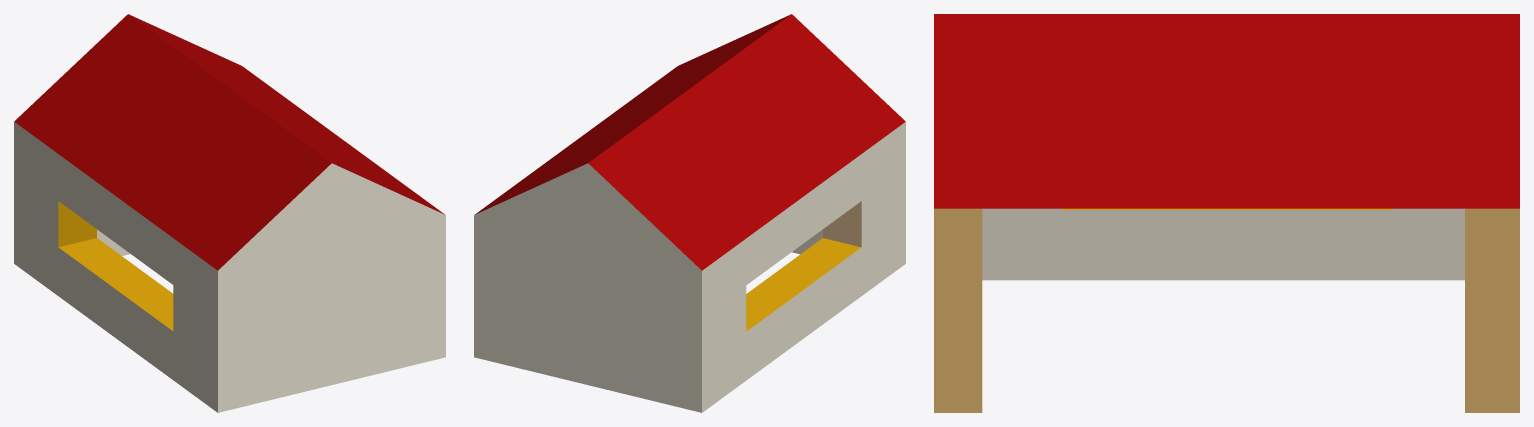
File: asset_home.glb
3 renders of one model, left to right at view 1: azimuth 30°, elevation 25°; view 2: azimuth 150°, elevation 25°; view 3: azimuth 270°, elevation 25°, orthographic. The views are drawn at different scales.
Parts seen in each view (by area): view 1: imagetostl_mesh8, imagetostl_mesh2, imagetostl_mesh1, imagetostl_mesh4, imagetostl_mesh7, imagetostl_mesh18, imagetostl_mesh17; view 2: imagetostl_mesh8, imagetostl_mesh3, imagetostl_mesh1, imagetostl_mesh6, imagetostl_mesh7, imagetostl_mesh18, imagetostl_mesh15; view 3: imagetostl_mesh7, imagetostl_mesh11, imagetostl_mesh10, imagetostl_mesh9, imagetostl_mesh18.
Boxes of the visible parts, box(x1,y1,x2,y2) form: imagetostl_mesh8: box(14, 14, 331, 270); imagetostl_mesh2: box(218, 215, 445, 412); imagetostl_mesh1: box(14, 122, 217, 412); imagetostl_mesh4: box(218, 163, 445, 270); imagetostl_mesh7: box(129, 14, 444, 214); imagetostl_mesh18: box(59, 238, 173, 330); imagetostl_mesh17: box(58, 201, 96, 247); imagetostl_mesh8: box(588, 14, 905, 270); imagetostl_mesh3: box(474, 215, 701, 412); imagetostl_mesh1: box(702, 122, 905, 412); imagetostl_mesh6: box(474, 163, 701, 270); imagetostl_mesh7: box(475, 14, 790, 214); imagetostl_mesh18: box(746, 238, 860, 331); imagetostl_mesh15: box(823, 201, 861, 247); imagetostl_mesh7: box(934, 14, 1519, 208); imagetostl_mesh11: box(982, 208, 1464, 280); imagetostl_mesh10: box(1465, 208, 1519, 412); imagetostl_mesh9: box(934, 208, 982, 412); imagetostl_mesh18: box(1061, 208, 1392, 209).
Size of the model in its own units: 161 by 149 by 249.
